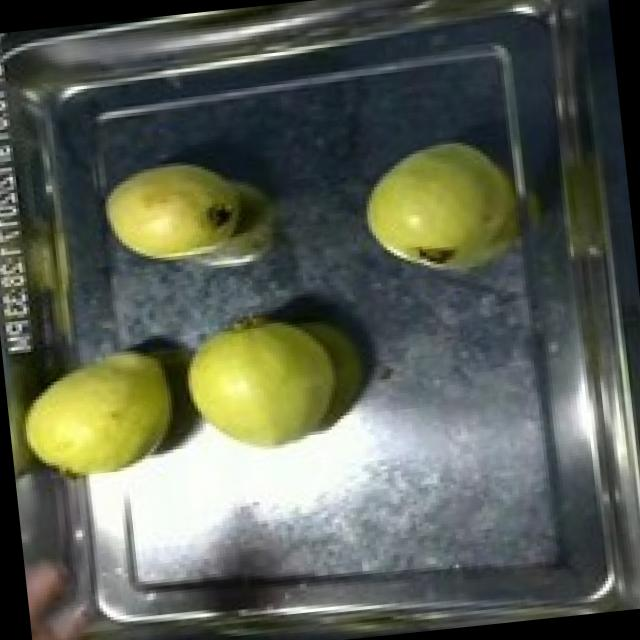Fruit: (169, 298, 350, 470), (350, 126, 527, 290), (5, 338, 188, 494), (91, 145, 256, 278)
